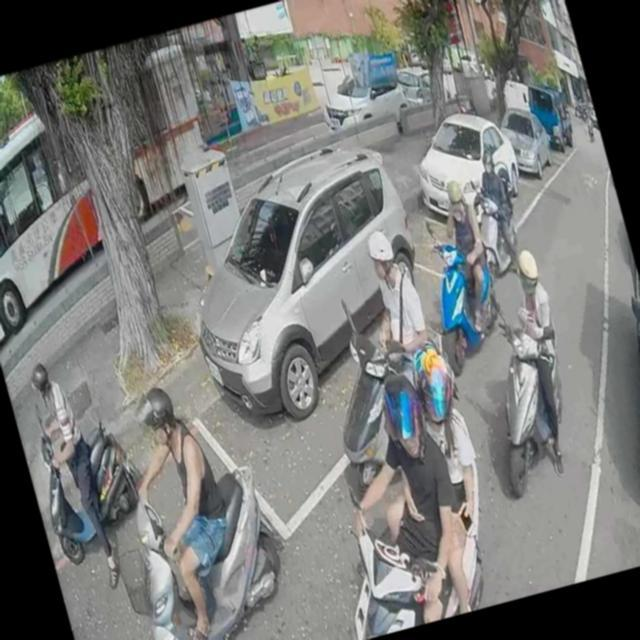person: (350, 329, 514, 624), (310, 362, 483, 636), (106, 369, 258, 640), (20, 350, 125, 590), (488, 238, 591, 478), (418, 165, 502, 338), (353, 224, 438, 382), (469, 148, 528, 270), (150, 626, 212, 640)
